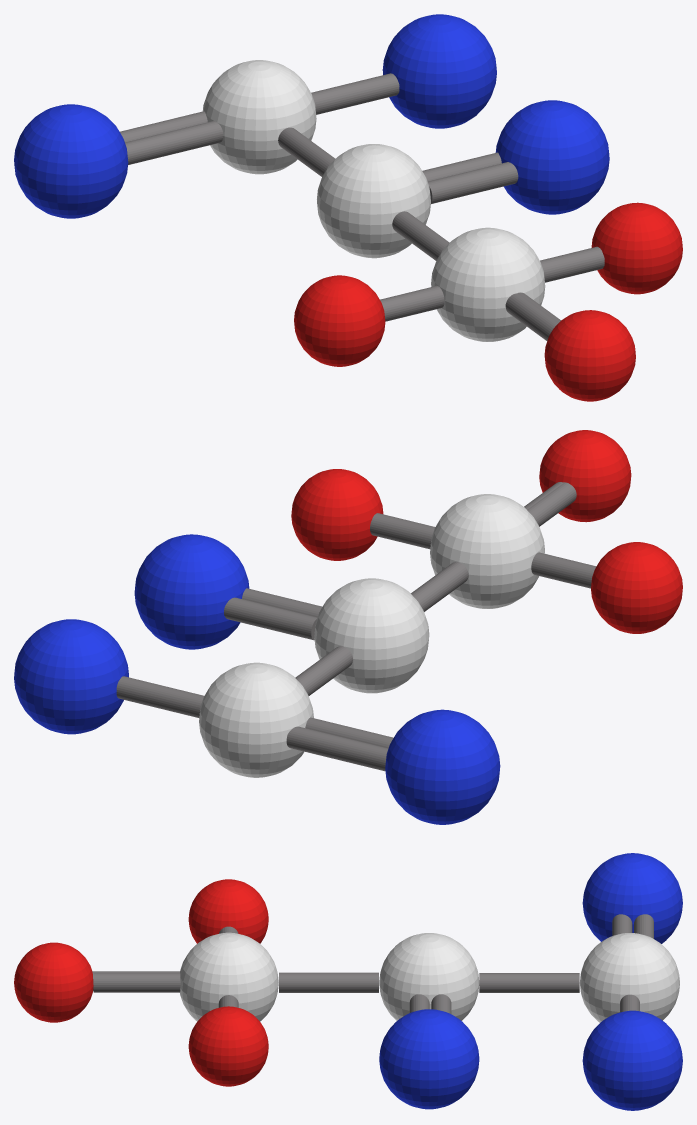
The model's file is pyruvate.fbx.
3 renders of one model, top to bottom at view 1: azimuth 30°, elevation 25°; view 2: azimuth 150°, elevation 25°; view 3: azimuth 270°, elevation 25°, orthographic. The views are drawn at different scales.
Parts seen in each view (by area): view 1: oxygen.001, oxygen.002, oxygen, Carbon.001, Carbon, Carbon.002, hydrogen.002, hydrogen.007, hydrogen, bond.007, bond.005, bond.009 (+7 smaller); view 2: oxygen.001, oxygen.002, oxygen, Carbon.002, Carbon.001, Carbon, hydrogen.002, hydrogen, hydrogen.007, bond.008, bond.006, bond.009 (+7 smaller); view 3: oxygen, oxygen.002, Carbon.002, Carbon, oxygen.001, Carbon.001, hydrogen, hydrogen.007, hydrogen.002, bond, bond.001, bond.003 (+1 smaller).
Part boxes in pixels (x1,y1,x2,y2): oxygen.001: [14, 104, 128, 218]; oxygen.002: [382, 14, 496, 128]; oxygen: [495, 100, 609, 214]; Carbon.001: [317, 144, 430, 258]; Carbon: [431, 227, 545, 341]; Carbon.002: [202, 60, 316, 174]; hydrogen.002: [294, 275, 385, 366]; hydrogen.007: [544, 310, 635, 401]; hydrogen: [591, 202, 682, 294]; bond.007: [125, 121, 223, 164]; bond.005: [428, 162, 518, 203]; bond.009: [311, 73, 399, 114]; oxygen.001: [385, 709, 500, 824]; oxygen.002: [14, 619, 128, 734]; oxygen: [134, 534, 249, 649]; Carbon.002: [199, 662, 313, 777]; Carbon.001: [314, 578, 429, 693]; Carbon: [430, 494, 544, 608]; hydrogen.002: [591, 542, 682, 633]; hydrogen: [291, 469, 383, 560]; hydrogen.007: [539, 430, 631, 522]; bond.008: [286, 726, 388, 771]; bond.006: [224, 597, 317, 640]; bond.009: [116, 676, 204, 717]; oxygen: [379, 1009, 479, 1109]; oxygen.002: [582, 1010, 682, 1110]; Carbon.002: [580, 933, 679, 1022]; Carbon: [180, 932, 278, 1021]; oxygen.001: [582, 853, 682, 943]; Carbon.001: [379, 933, 479, 1020]; hydrogen: [188, 1006, 268, 1086]; hydrogen.007: [14, 942, 93, 1022]; hydrogen.002: [188, 879, 268, 943]; bond: [279, 972, 378, 992]; bond.001: [479, 973, 579, 992]; bond.003: [93, 973, 180, 992].
Bounding box in the file's own units: 943 × 200 × 1334.
